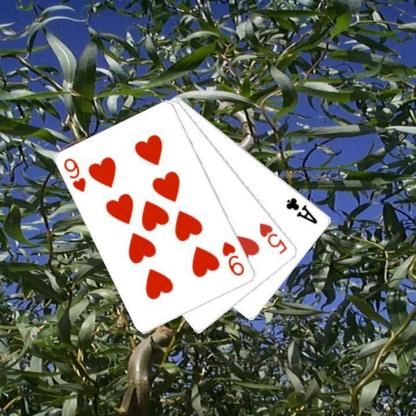5H: (256, 220, 289, 256)
9H: (61, 156, 88, 194), (220, 239, 246, 278)
AC: (284, 195, 319, 226)
